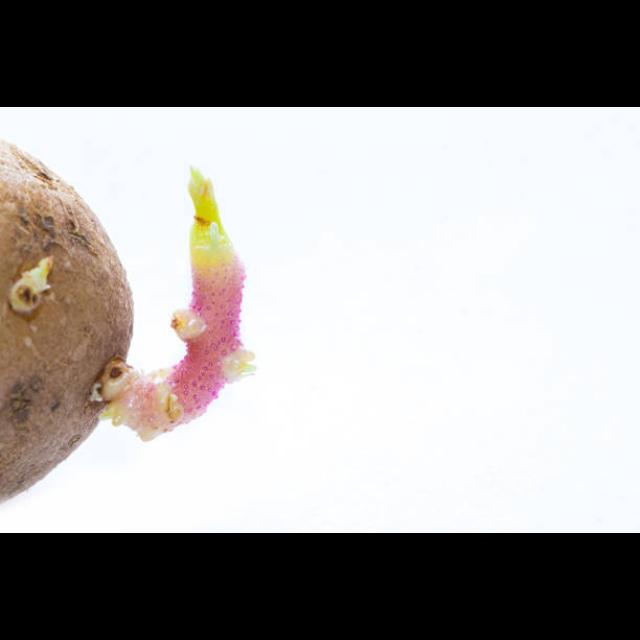Sprouted potato: (1, 127, 250, 511)
